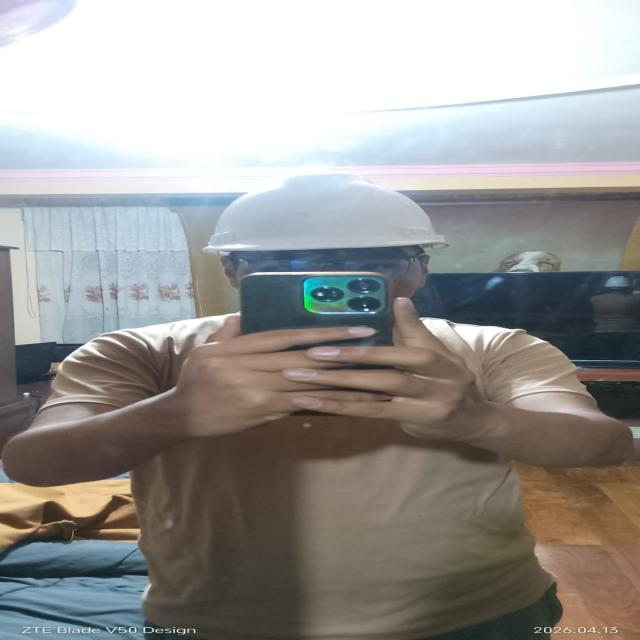casco: (190, 164, 467, 267)
